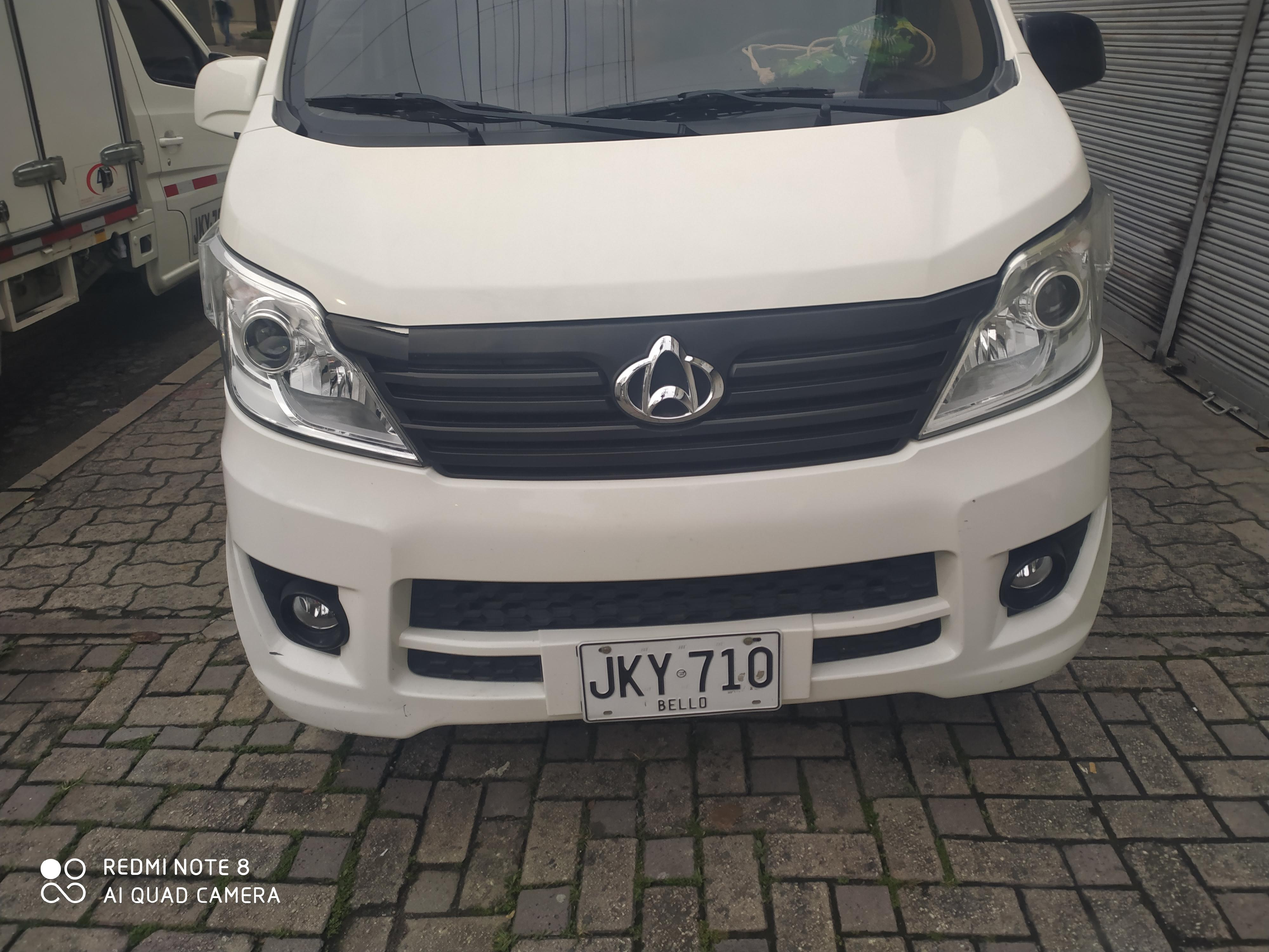placa: (563, 626, 798, 727)
